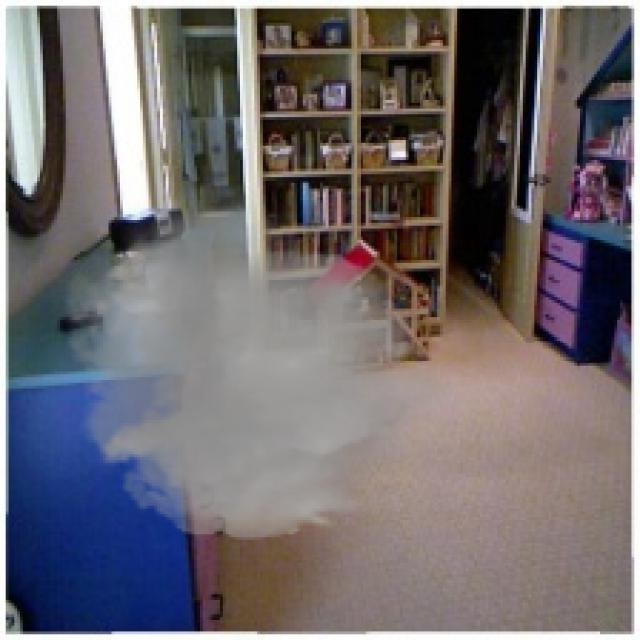smoke: (48, 180, 466, 549)
